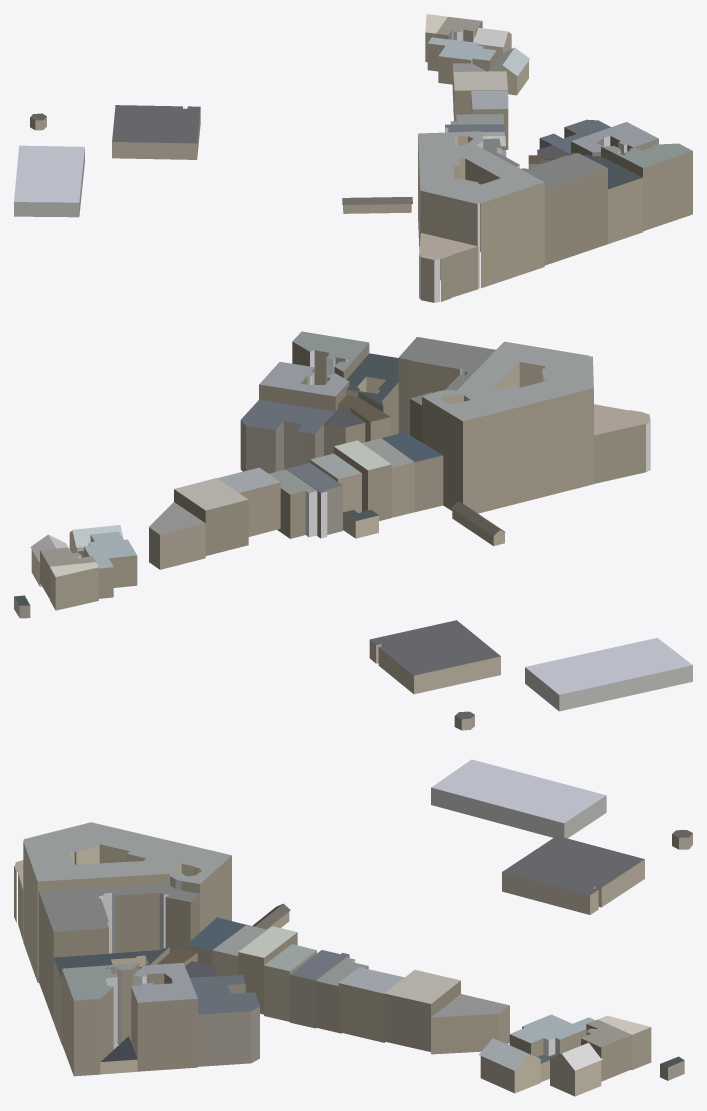
3 renders of one model, top to bottom at view 1: azimuth 30°, elevation 25°; view 2: azimuth 150°, elevation 25°; view 3: azimuth 270°, elevation 25°, orthographic. The views are drawn at different scales.
Parts seen in each view (by area): view 1: tuile; view 2: tuile; view 3: tuile.
Part boxes in pixels (x1=…): tuile: x1=14, y1=14, x2=692, y2=302; tuile: x1=14, y1=331, x2=692, y2=730; tuile: x1=14, y1=759, x2=692, y2=1096.
Bounding box in the file's own units: 208 × 32.18 × 189.
